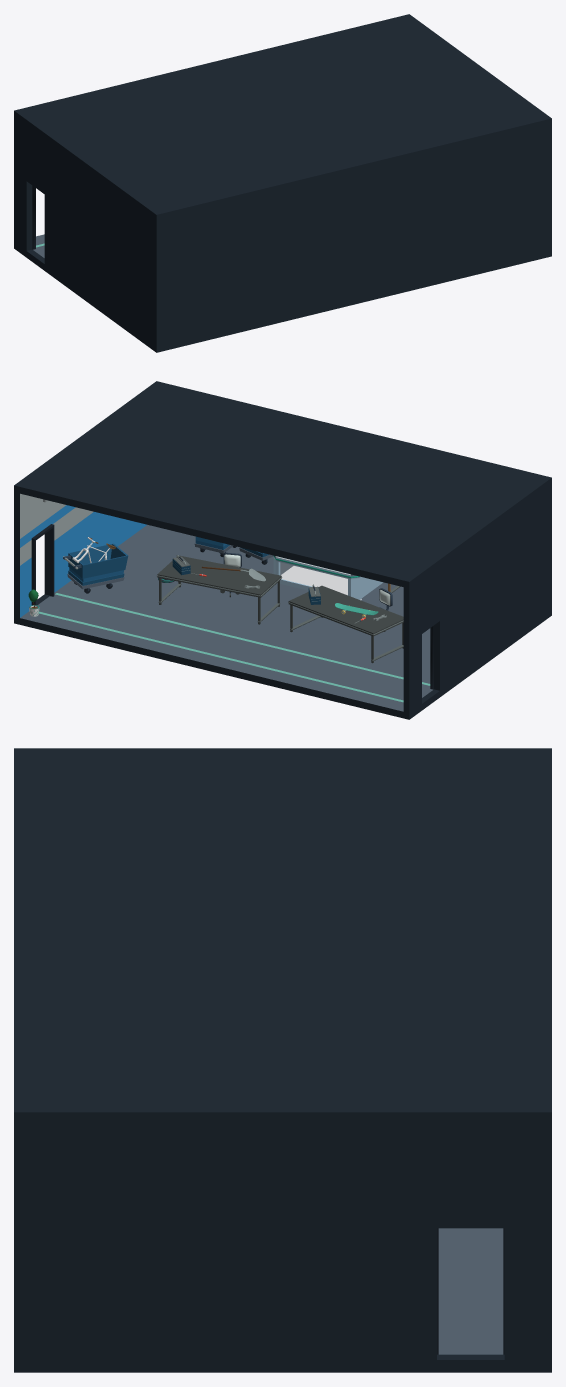
Rendered from Room_assembling_002.fbx.
The picture shows the model from 3 angles, top to bottom: view 1: azimuth 30°, elevation 25°; view 2: azimuth 150°, elevation 25°; view 3: azimuth 270°, elevation 25°; orthographic projection. The views are drawn at different scales.
Parts seen in each view (by area): view 1: Room_large_001; view 2: Room_large_001; view 3: Room_large_001.
Part boxes in pixels (x1=…): Room_large_001: x1=14, y1=14, x2=551, y2=352; Room_large_001: x1=14, y1=381, x2=551, y2=719; Room_large_001: x1=14, y1=748, x2=551, y2=1372.
Bounding box in the file's own units: 1200 × 400 × 749.
